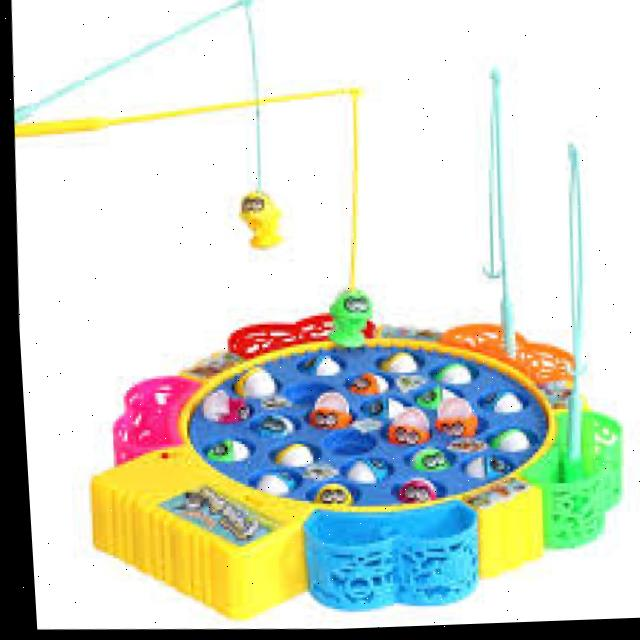Dry: (90, 244, 633, 631)
